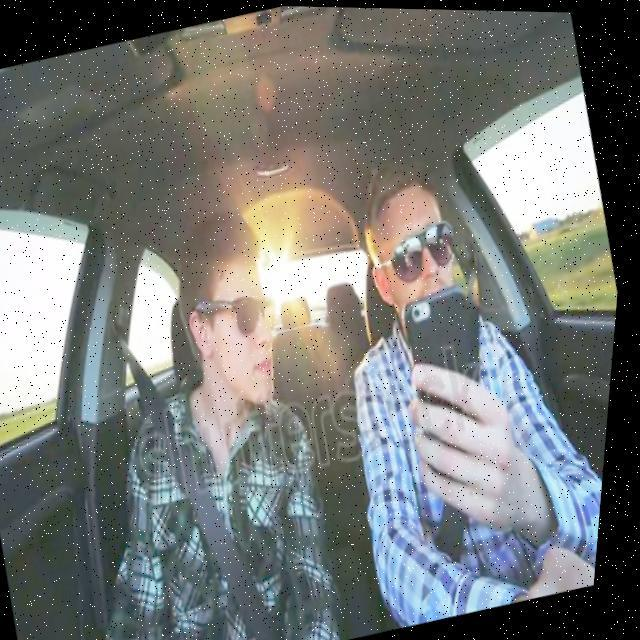PhoneCall: (394, 279, 511, 474)
